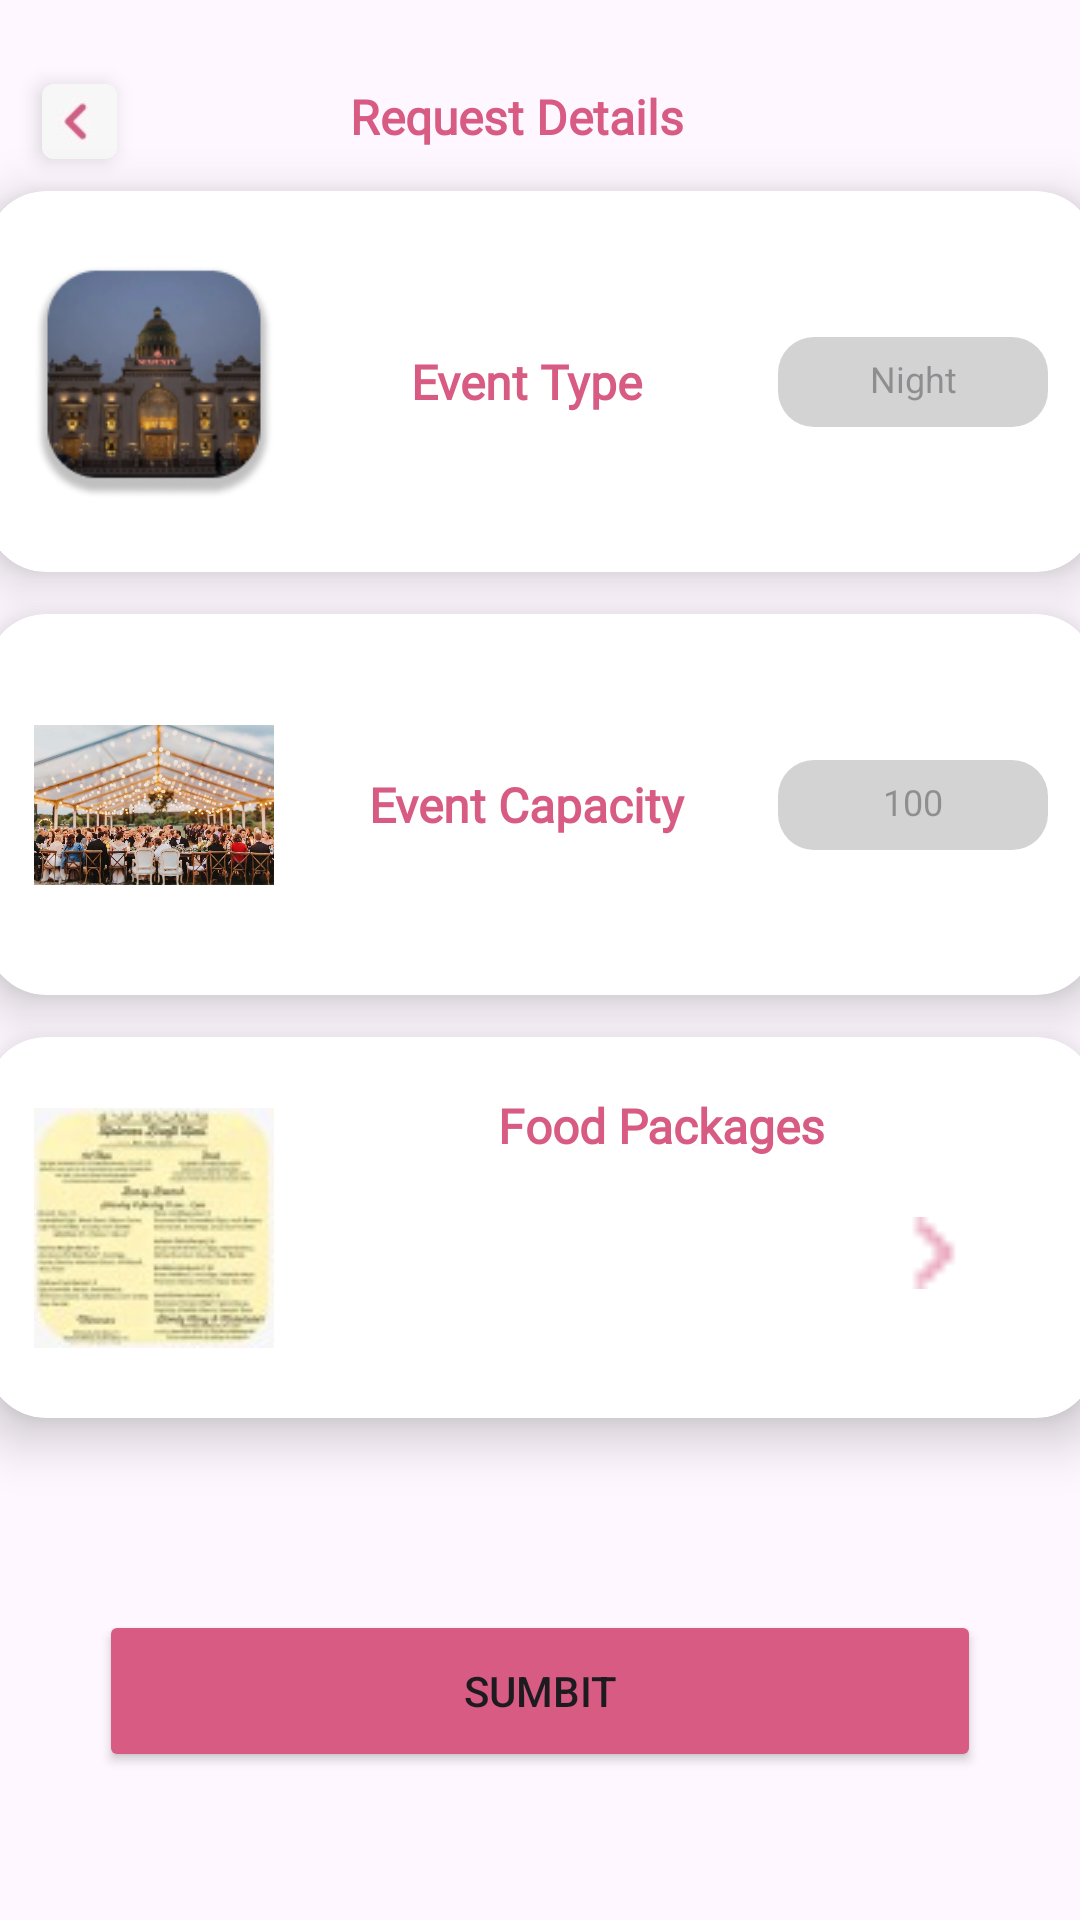

Icons on this 1080w x 1920h Android screen, each with its box as (x1, y1, x2, y2):
forward: (915, 1217, 954, 1289)
